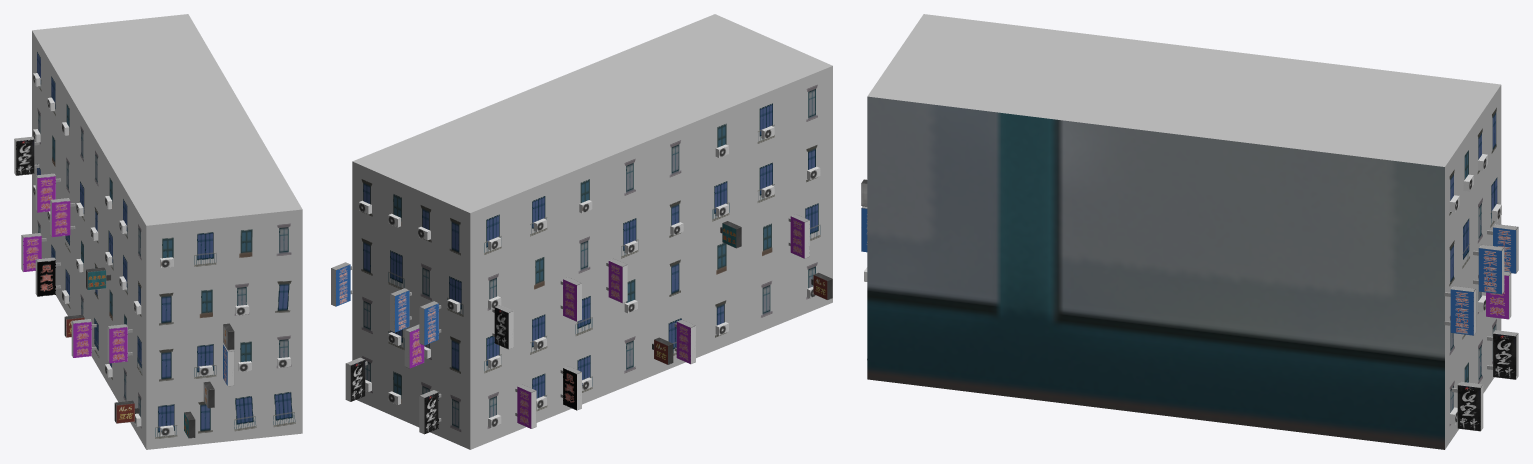
Rendered from 111StationFix07.fbx.
The picture shows the model from 3 angles, left to right: view 1: azimuth 30°, elevation 25°; view 2: azimuth 150°, elevation 25°; view 3: azimuth 270°, elevation 25°; orthographic projection. The views are drawn at different scales.
Visible parts, largest first — view 1: Areas:building.003; view 2: Areas:building.003; view 3: Areas:building.003.
Boxes of the visible parts, <box> form: Areas:building.003: <box>14,14,302,449</box>; Areas:building.003: <box>331,14,832,449</box>; Areas:building.003: <box>861,14,1518,449</box>.
Bounding box in the file's own units: 21.55 × 16.96 × 35.7.
